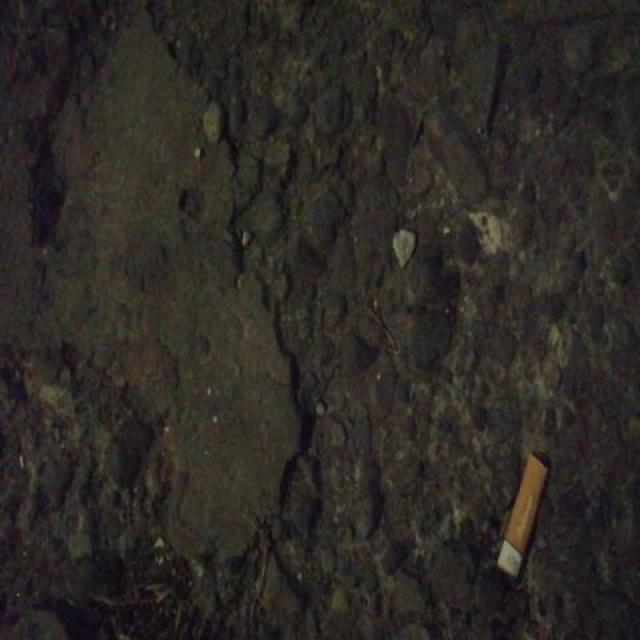non-organic waste: (494, 446, 553, 582)
